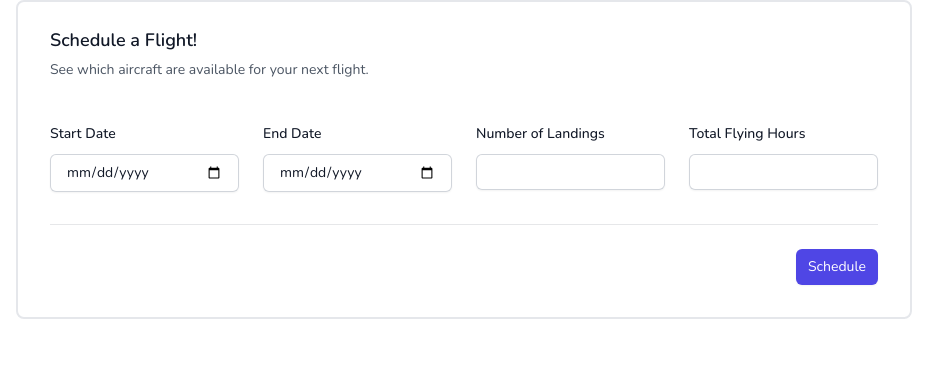
Test: TripForm › should display form errors with bad data
This screenshot has width=929, height=384.
Step 1. Type "2023-03-16" into the date field labelled "Start Date" → (144, 173), box top-left (50, 154), bottom-right (239, 192)
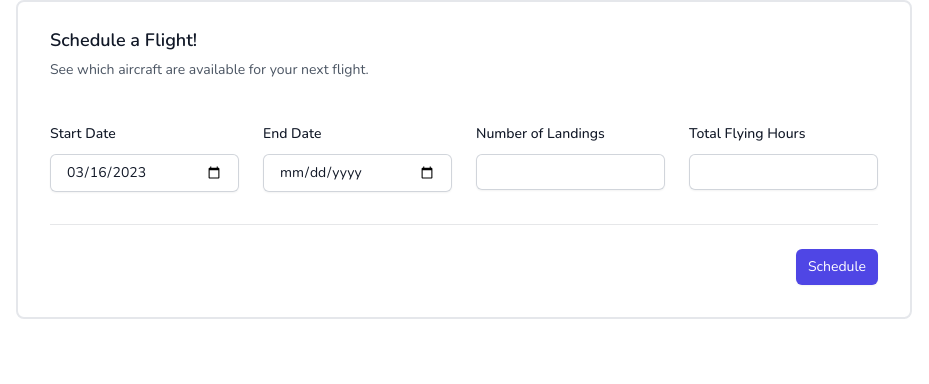
Step 2. Type "2023-03-15" into the date field labelled "End Date" → (358, 173), box top-left (263, 154), bottom-right (452, 192)
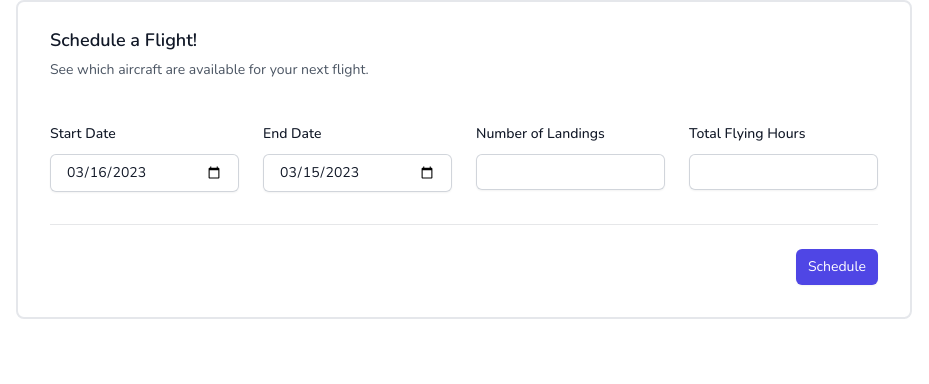
Step 3. Type "0" into the number field labelled "Number of Landings" → (570, 172), box top-left (476, 154), bottom-right (665, 190)
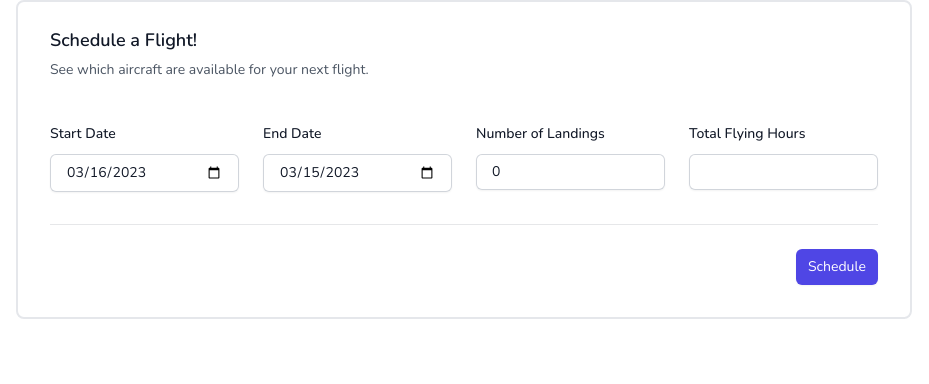
Step 4. Type "0" into the number field labelled "Total Flying Hours" → (784, 172), box top-left (689, 154), bottom-right (878, 190)
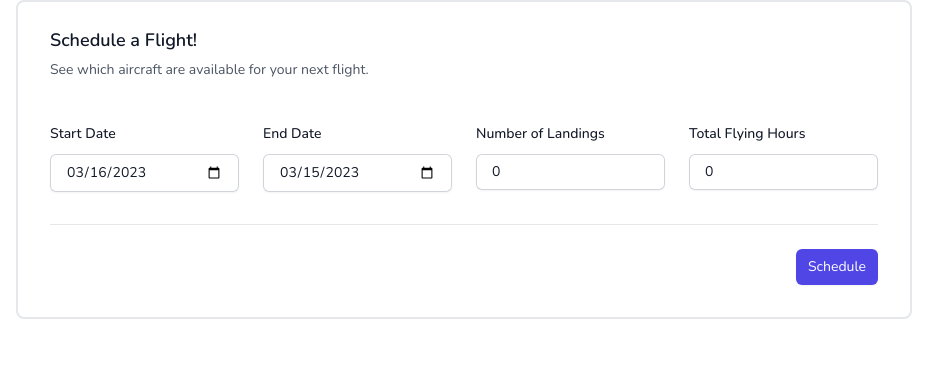
Step 5. Click the button → (837, 267), box top-left (796, 249), bottom-right (878, 285)
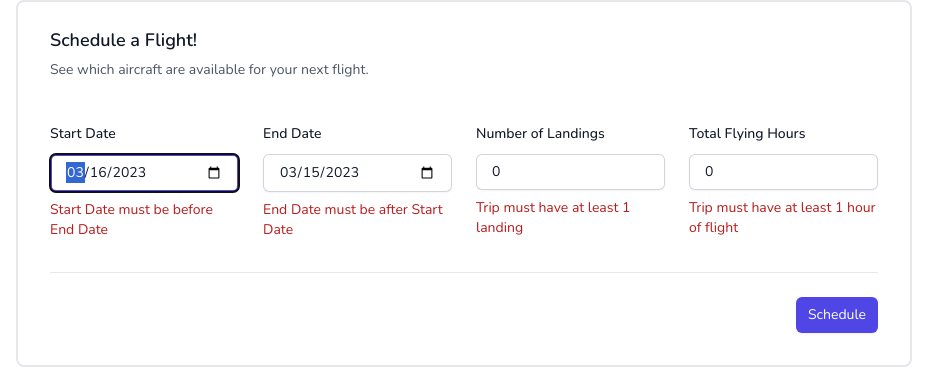
Expected: the number of elements with test id "form-error" is 4, top-left (50, 200), bottom-right (239, 240); top-left (263, 200), bottom-right (452, 240); top-left (476, 198), bottom-right (630, 237); top-left (689, 198), bottom-right (878, 238)
